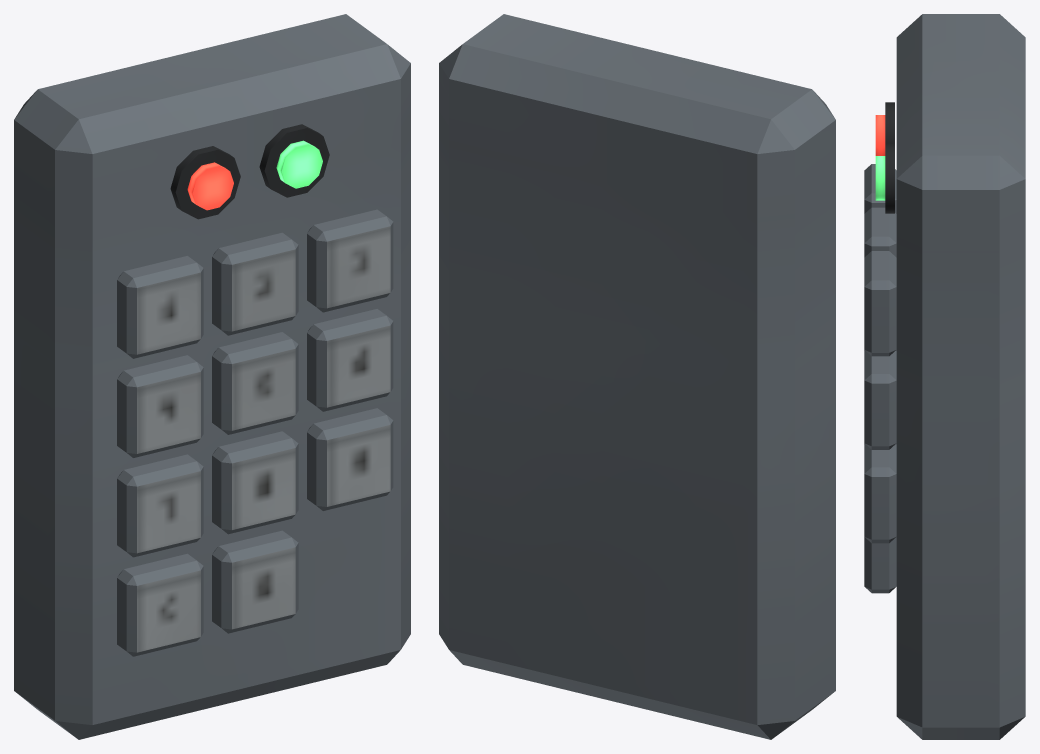
Rendered from keypad_prison.fbx.
3 renders of one model, left to right at view 1: azimuth 30°, elevation 25°; view 2: azimuth 150°, elevation 25°; view 3: azimuth 270°, elevation 25°, orthographic. The views are drawn at different scales.
Parts seen in each view (by area): view 1: keypad_prison, keypad_prison_key_C, keypad_prison_lamp_idle, keypad_prison_lamp; view 2: keypad_prison; view 3: keypad_prison, keypad_prison_lamp, keypad_prison_lamp_idle.
Boxes of the visible parts, x1,y1,x2,y2 form: keypad_prison: [14, 14, 410, 739]; keypad_prison_key_C: [117, 553, 203, 656]; keypad_prison_lamp_idle: [187, 162, 233, 210]; keypad_prison_lamp: [276, 140, 322, 188]; keypad_prison: [439, 14, 835, 739]; keypad_prison: [864, 14, 1025, 739]; keypad_prison_lamp: [875, 156, 885, 200]; keypad_prison_lamp_idle: [875, 115, 885, 155].
Bounding box in the file's own units: 0.12 × 0.2 × 0.05.
Materials: 1 (1 with a texture image).
